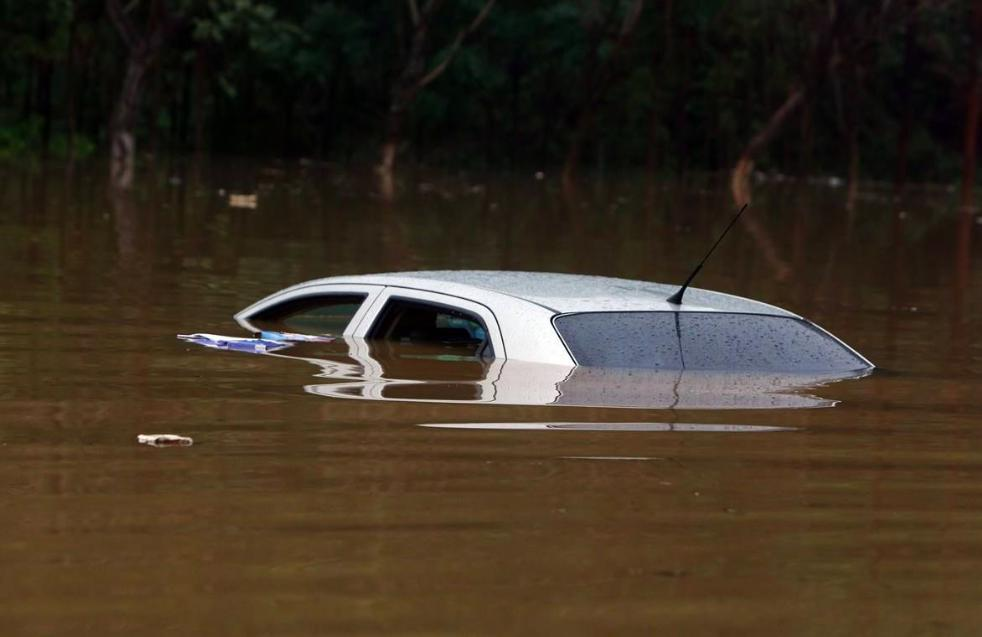water: (0, 202, 981, 636)
